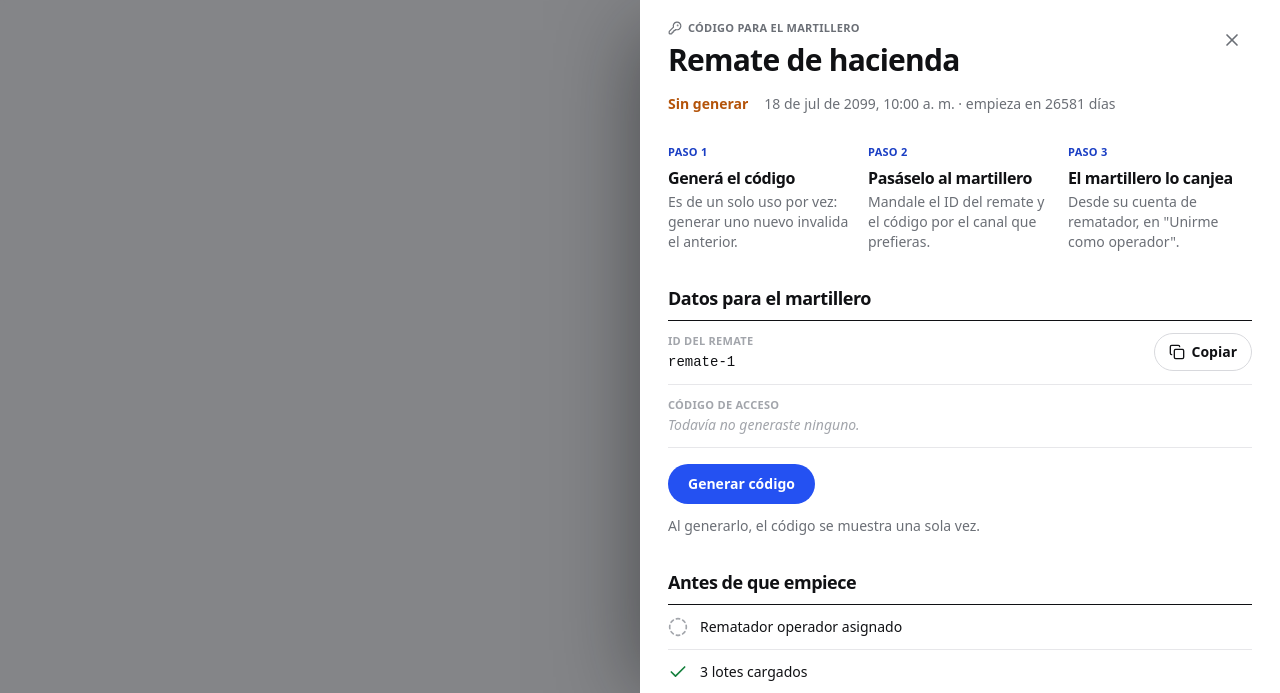
Test: OperatorCodeDrawer › genera el código, lo muestra y avisa al dashboard
Click the button "Generar código" at (741, 484), box [668,464,815,504]
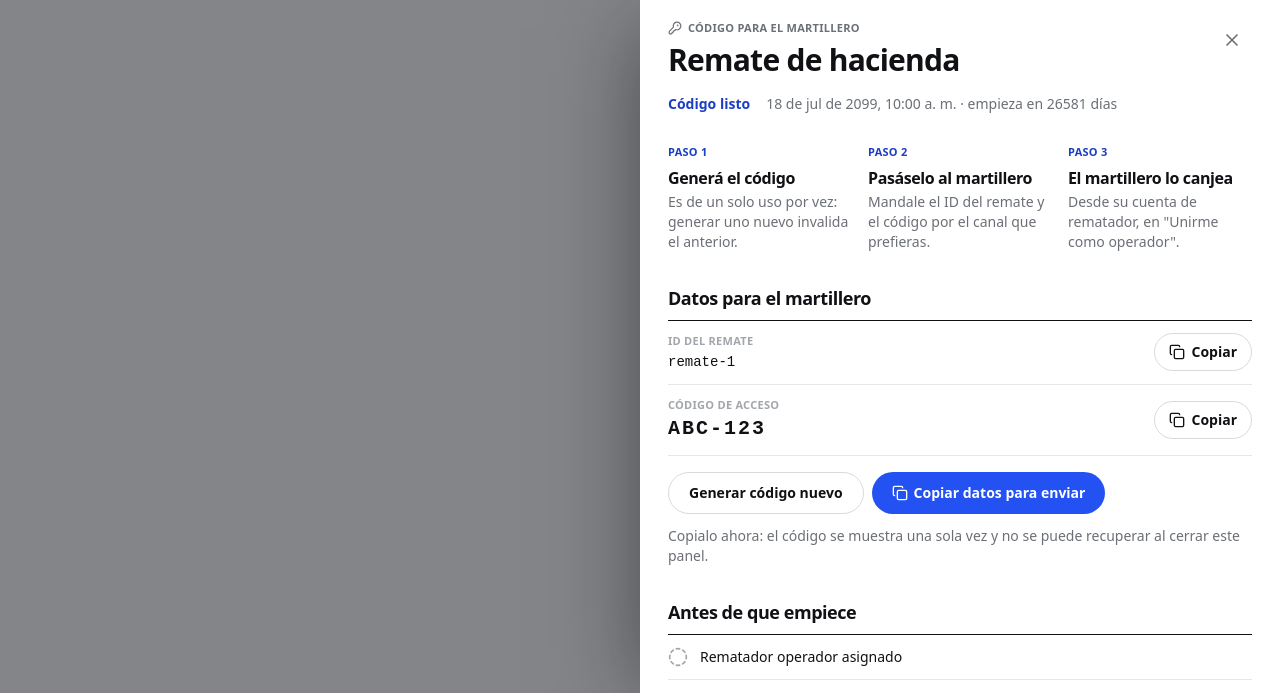
Expected: the text "ABC-123" is shown, [668,417,766,440]
Expected: the button "Copiar datos para enviar" is shown, [872,472,1105,514]
